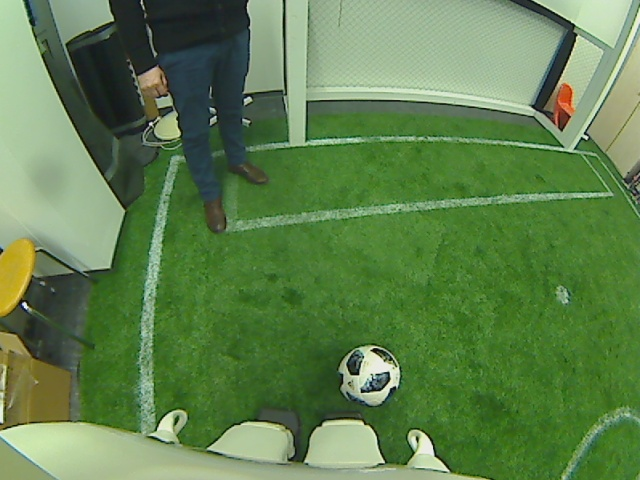ball: (334, 340, 401, 410)
